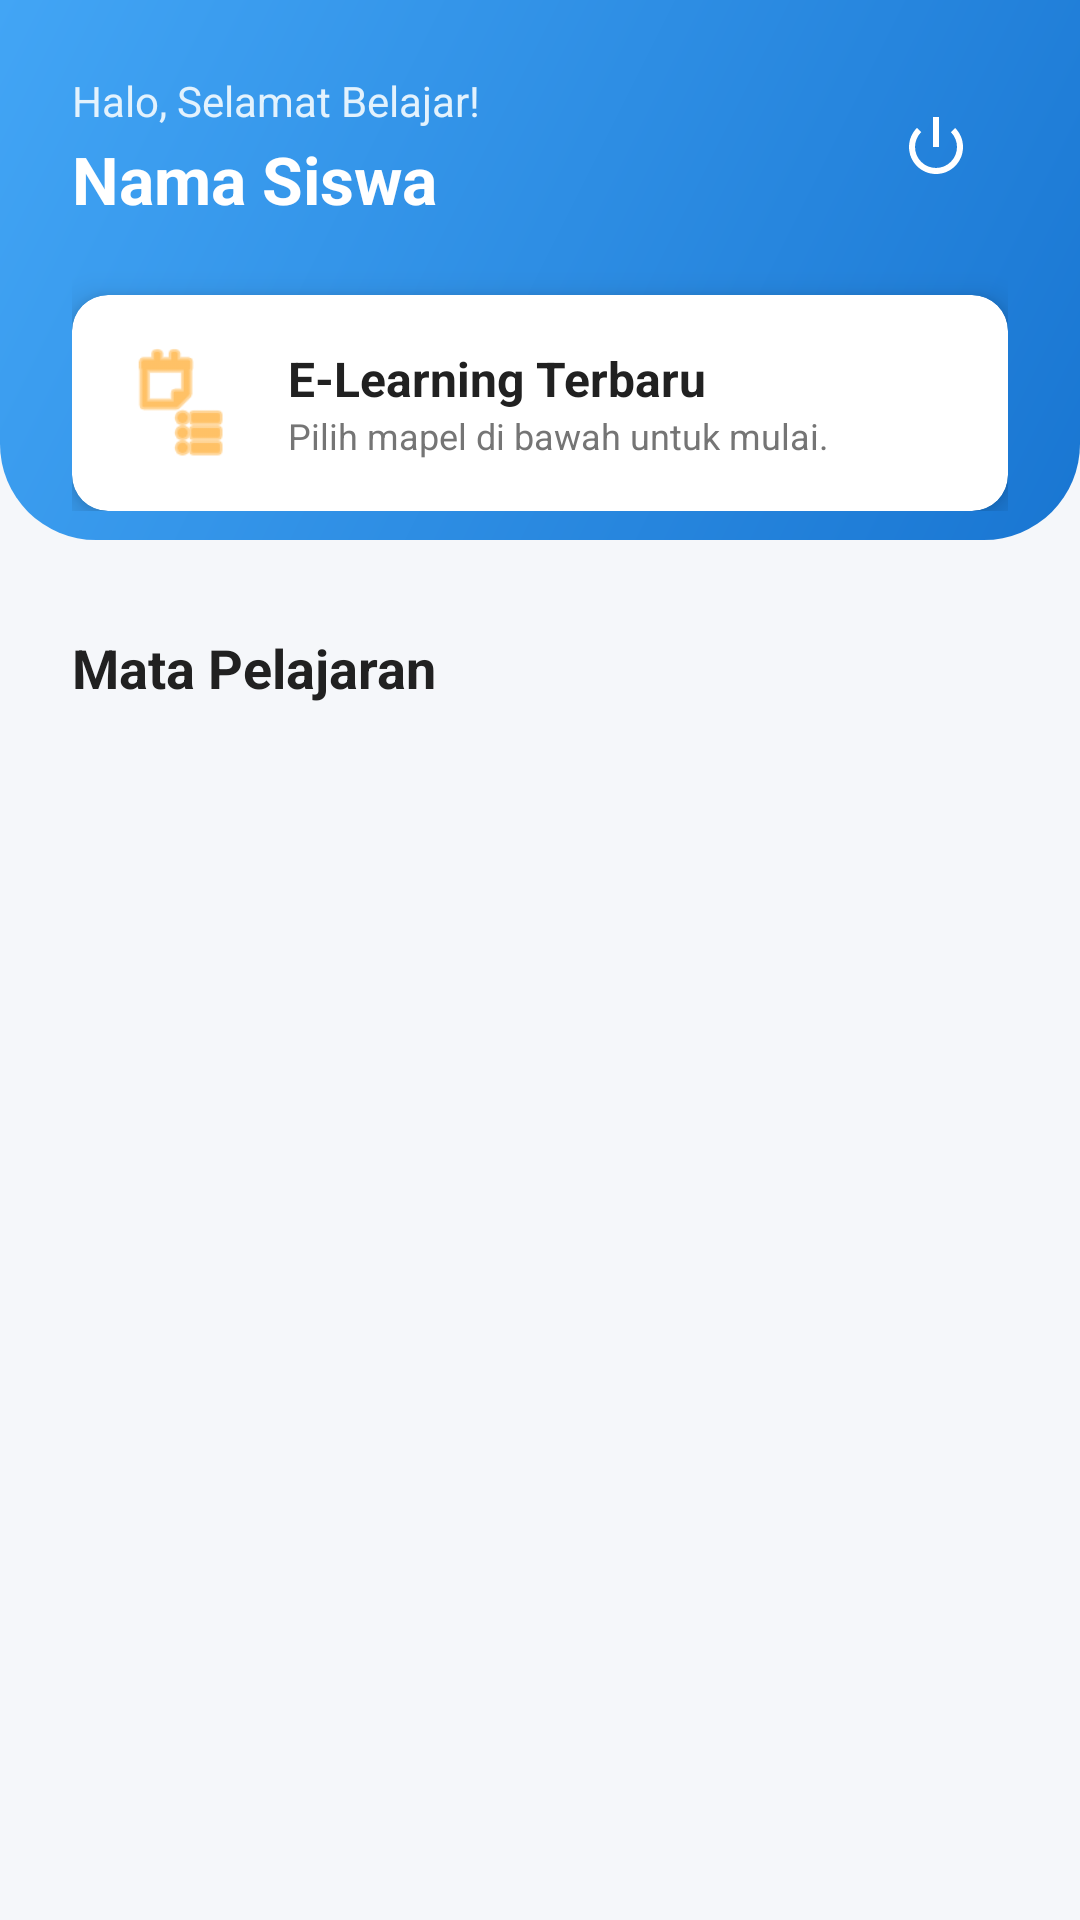

Icons on this 1080w x 1920h Android screen, each with the point to tap as [x,y]:
agenda: [180,402]
